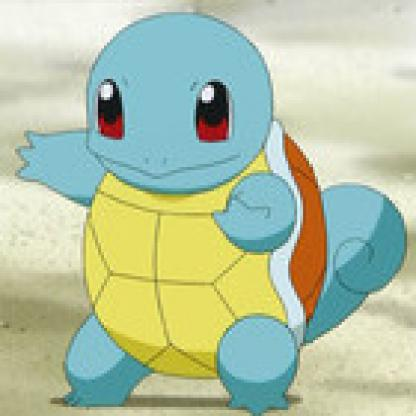Squirtle: (32, 1, 416, 406)
